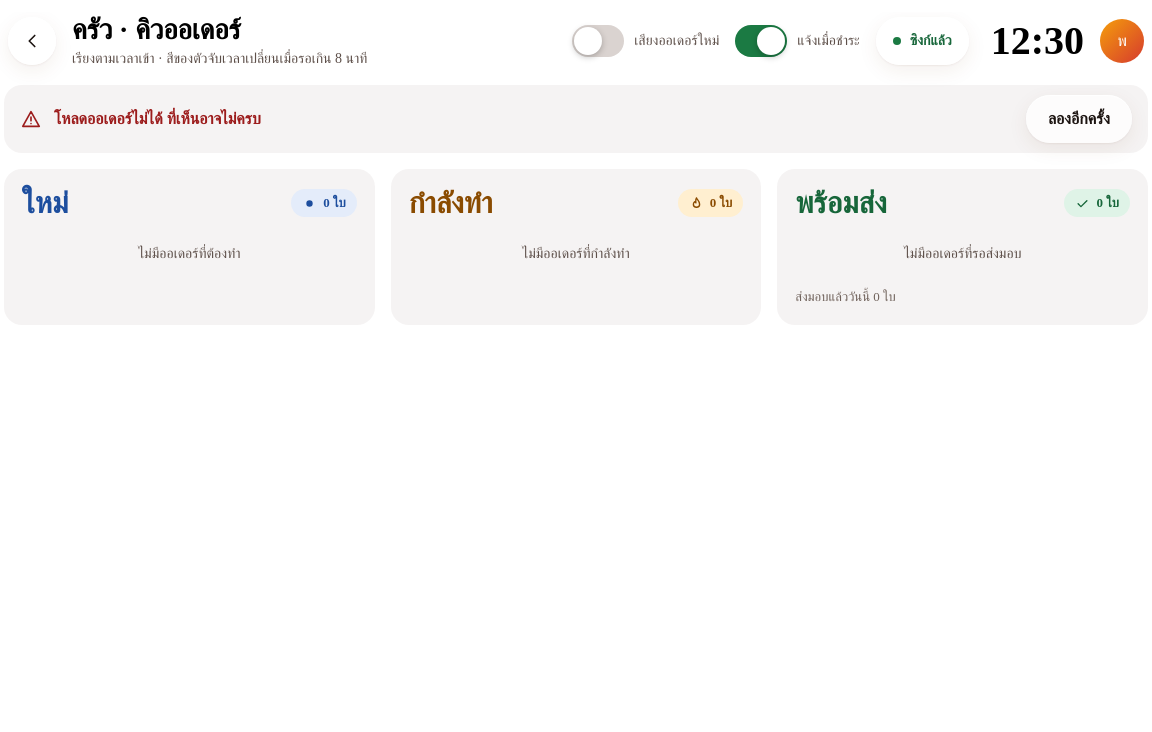
Test: live updates › the list is fetched when the screen opens, and a failure says so with a retry
The width and height of the screenshot is (1152, 732).
Expected: the message "โหลดออเดอร์ไม่ได้ ที่เห็นอาจไม่ครบ ลองอีกครั้ง" is shown, left=4, top=85, right=1148, bottom=153
Click the button "ลองอีกครั้ง": x=1079, y=119 left=1026, top=95, right=1132, bottom=143
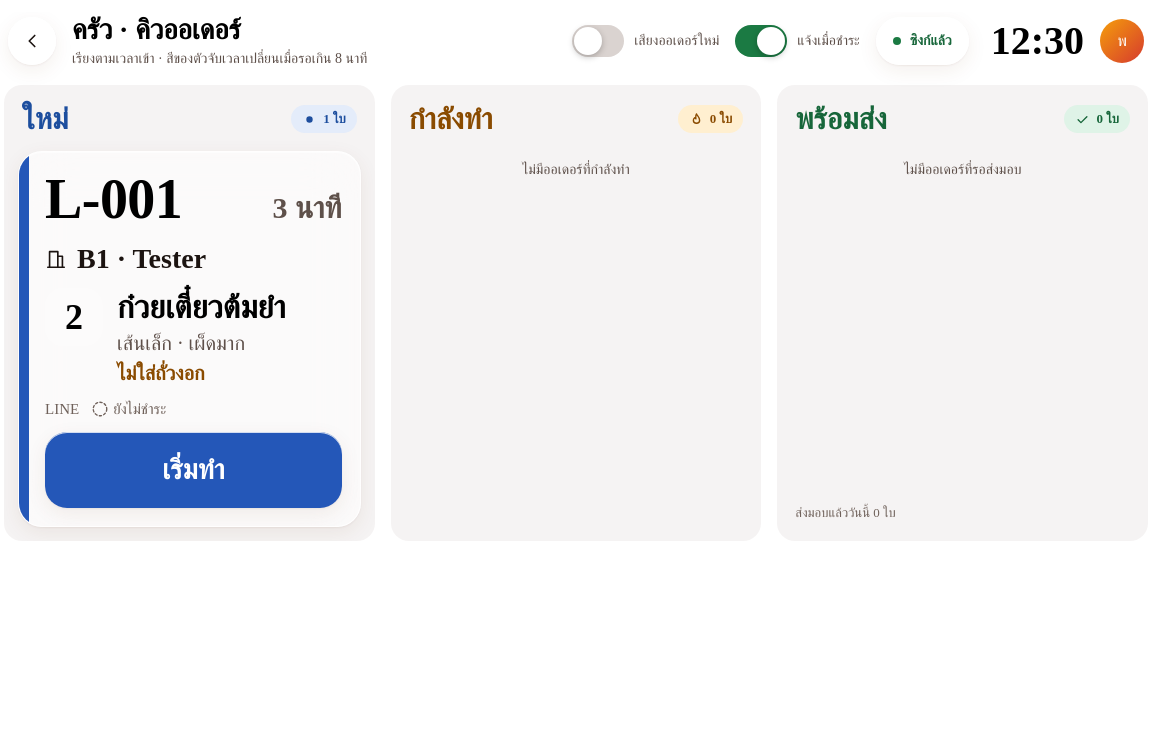
Now the element "L-001" is shown, box left=18, top=151, right=361, bottom=527
